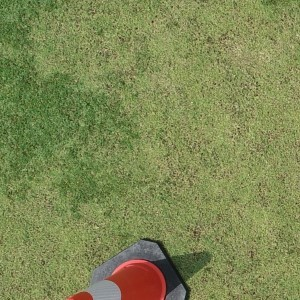traffic cone: (68, 238, 188, 300)
